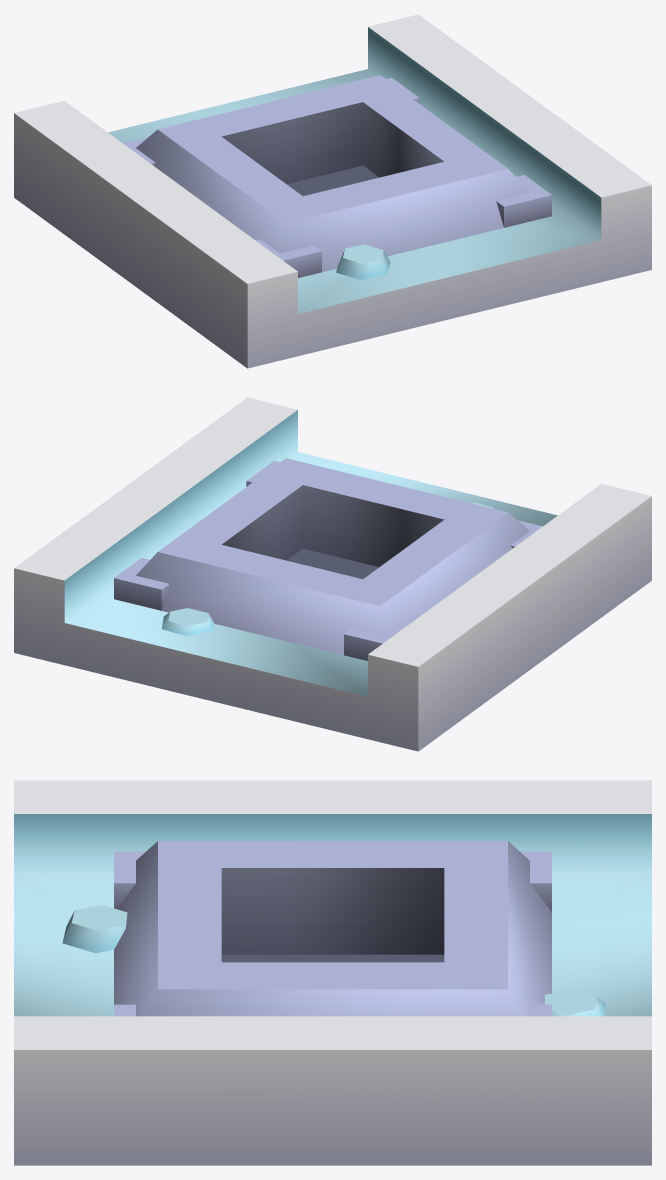
File: snow-tile-spawn.glb
The picture shows the model from 3 angles, top to bottom: view 1: azimuth 30°, elevation 25°; view 2: azimuth 150°, elevation 25°; view 3: azimuth 270°, elevation 25°; orthographic projection. The views are drawn at different scales.
Parts seen in each view (by area): view 1: snow-tile-spawn; view 2: snow-tile-spawn; view 3: snow-tile-spawn.
Part boxes in pixels (x1,y1,x2,y2): snow-tile-spawn: [14, 14, 651, 368]; snow-tile-spawn: [14, 397, 651, 751]; snow-tile-spawn: [14, 780, 651, 1165].
Size of the model in its own units: 1 by 0.2 by 1.
1 material, 1 textured.
